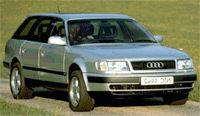Car: (2, 6, 200, 115)
